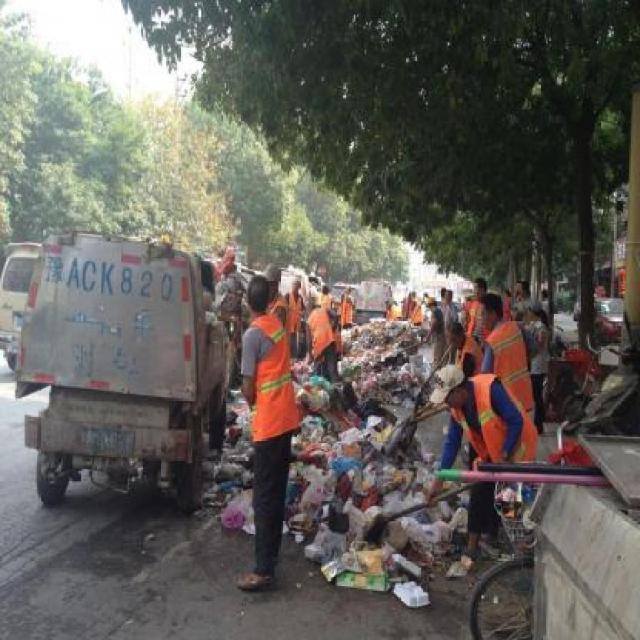garbage: (301, 374, 424, 590), (340, 317, 418, 394), (197, 443, 252, 536)
